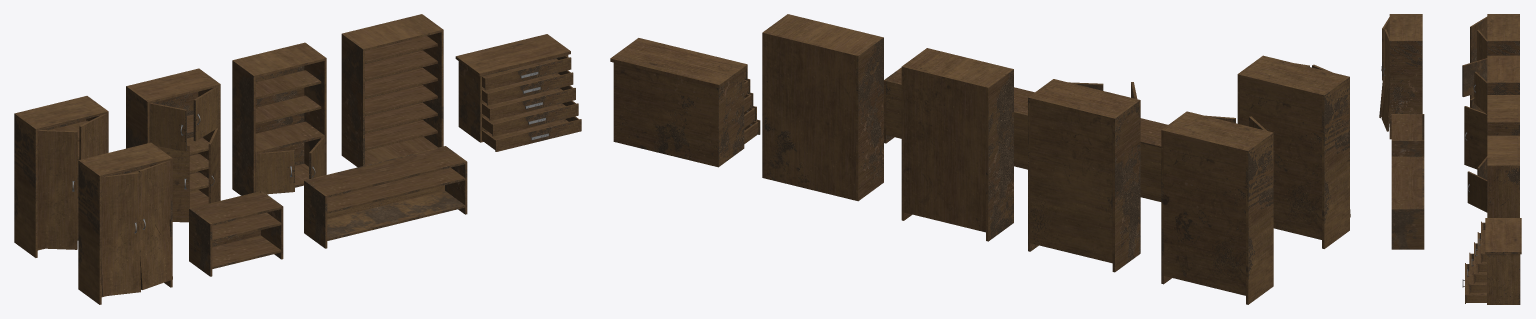
Rendered from old_shelves.glb.
The picture shows the model from 3 angles, left to right: view 1: azimuth 30°, elevation 25°; view 2: azimuth 150°, elevation 25°; view 3: azimuth 270°, elevation 25°; orthographic projection. The views are drawn at different scales.
Visible parts, largest first — view 1: book shelf, Small closet, closet, Object010_Material #25_0, closet004_Material #25_0, closet02, closet01, closet003, Left door01, broken door left_Material #25_0, broken door right_Material #25_0, left door 04 (+6 smaller); view 2: book shelf, closet01, closet02, closet, closet003, Small closet, Object010_Material #25_0, closet004_Material #25_0; view 3: Small closet, closet003, Object010_Material #25_0, book shelf, closet004_Material #25_0, closet02, closet, right door 03, closet01, right door 04, left door 02, broken door right_Material #25_0 (+5 smaller).
Boxes of the visible parts, x1,y1,x2,y2 form: book shelf: (341, 14, 443, 167); Small closet: (455, 34, 581, 151); closet: (232, 42, 326, 195); Object010_Material #25_0: (304, 146, 467, 248); closet004_Material #25_0: (189, 191, 283, 276); closet02: (14, 96, 108, 257); closet01: (126, 68, 220, 208); closet003: (78, 142, 172, 304); Left door01: (37, 130, 77, 249); broken door left_Material #25_0: (101, 172, 140, 296); broken door right_Material #25_0: (138, 161, 172, 289); left door 04: (255, 150, 294, 194); book shelf: (762, 14, 883, 201); closet01: (1028, 79, 1140, 272); closet02: (1161, 111, 1273, 304); closet: (901, 48, 1013, 241); closet003: (1237, 55, 1349, 248); Small closet: (610, 38, 760, 167); Object010_Material #25_0: (884, 67, 1034, 169); closet004_Material #25_0: (1140, 118, 1167, 201); Small closet: (1462, 218, 1521, 304); closet003: (1389, 14, 1422, 139); Object010_Material #25_0: (1391, 156, 1424, 249); book shelf: (1487, 135, 1519, 217); closet004_Material #25_0: (1391, 114, 1424, 156); closet02: (1487, 14, 1519, 55); closet: (1487, 95, 1519, 135); right door 03: (1464, 106, 1487, 169); closet01: (1487, 55, 1519, 94); right door 04: (1467, 171, 1487, 212); left door 02: (1462, 58, 1487, 96); broken door right_Material #25_0: (1381, 29, 1389, 131).
Size of the model in its own units: 10.98 by 2.53 by 3.33.
Materials: 1 (1 with a texture image).
